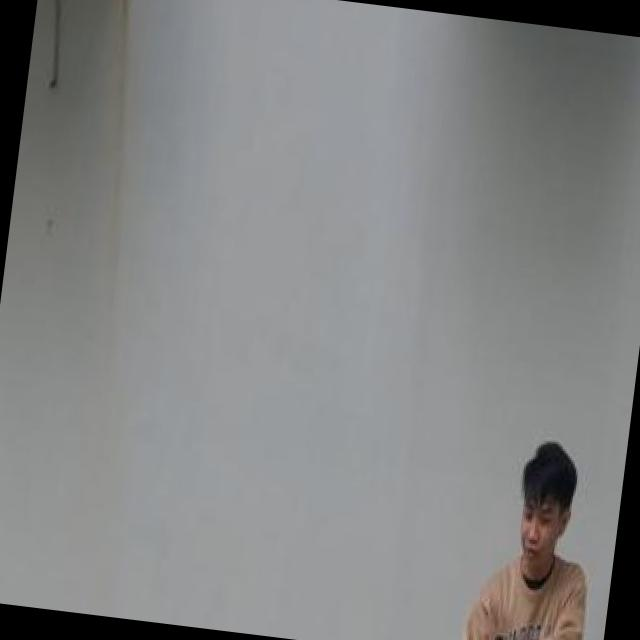Guns: (465, 618, 520, 640)
